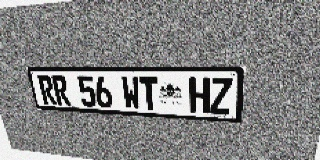5: (77, 76, 97, 107)
6: (93, 76, 113, 108)
H: (189, 77, 210, 113)
R: (37, 75, 57, 105), (51, 76, 71, 106)
T: (139, 77, 159, 111)
W: (121, 76, 141, 110)
Z: (210, 77, 233, 115)
